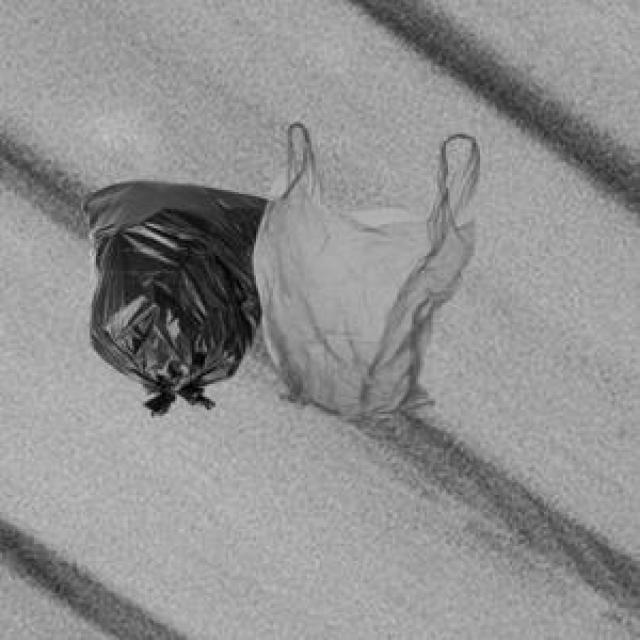miscellaneous trash: (79, 177, 264, 412)
